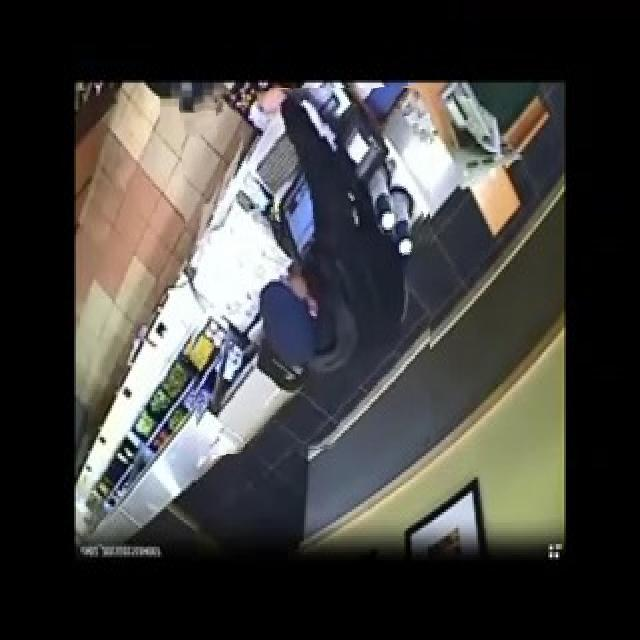Shoplifting: (184, 88, 430, 453)
